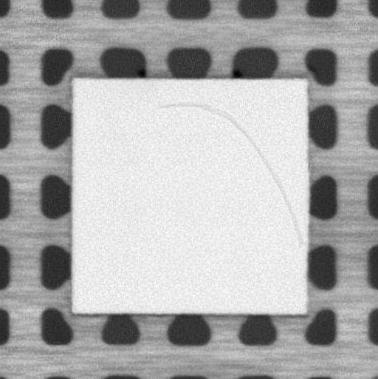DIE_CRACK: (159, 101, 305, 250)
